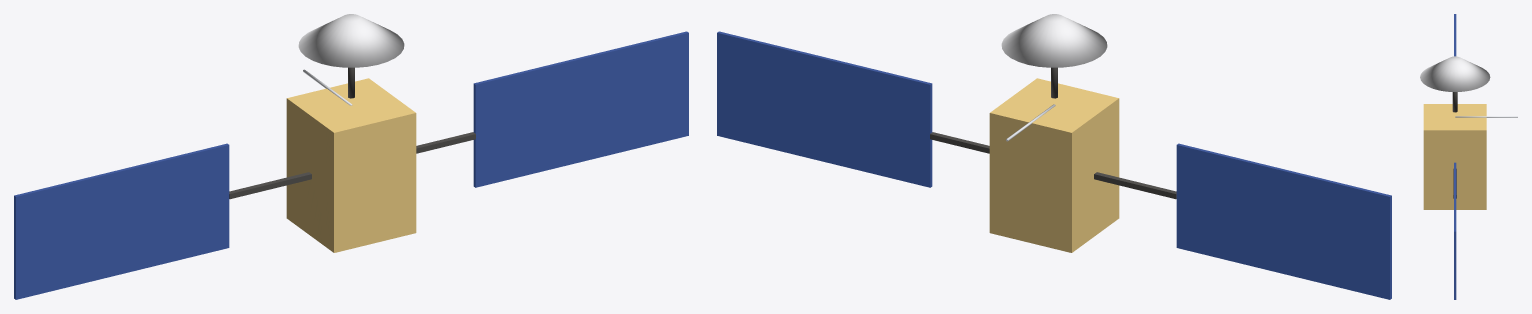
The model's file is satellite.glb.
The picture shows the model from 3 angles, left to right: view 1: azimuth 30°, elevation 25°; view 2: azimuth 150°, elevation 25°; view 3: azimuth 270°, elevation 25°; orthographic projection. The views are drawn at different scales.
Visible parts, largest first — view 1: satellite_panel1, satellite_panel0, satellite_body, satellite_dish, satellite_boom1, satellite_boom0; view 2: satellite_panel1, satellite_panel0, satellite_body, satellite_dish, satellite_boom1, satellite_boom0; view 3: satellite_body, satellite_dish, satellite_panel0, satellite_panel1, satellite_ant, satellite_dish_arm.
Boxes of the visible parts, left/top/right/bottom form: satellite_panel1: left=14, top=143, right=229, bottom=299; satellite_panel0: left=473, top=31, right=688, bottom=187; satellite_body: left=286, top=78, right=416, bottom=252; satellite_dish: left=298, top=14, right=404, bottom=67; satellite_boom1: left=229, top=172, right=311, bottom=199; satellite_boom0: left=416, top=132, right=475, bottom=153; satellite_panel1: left=1176, top=143, right=1391, bottom=299; satellite_panel0: left=717, top=31, right=932, bottom=187; satellite_body: left=989, top=78, right=1119, bottom=252; satellite_dish: left=1001, top=14, right=1107, bottom=67; satellite_boom1: left=1094, top=172, right=1176, bottom=199; satellite_boom0: left=930, top=132, right=989, bottom=153; satellite_body: left=1423, top=104, right=1486, bottom=209; satellite_dish: left=1420, top=56, right=1490, bottom=91; satellite_panel0: left=1454, top=162, right=1456, bottom=299; satellite_panel1: left=1454, top=14, right=1456, bottom=56; satellite_ant: left=1455, top=116, right=1517, bottom=117; satellite_dish_arm: left=1452, top=92, right=1457, bottom=112.
Size of the model in its own units: 4.1 by 1.21 by 0.78.
